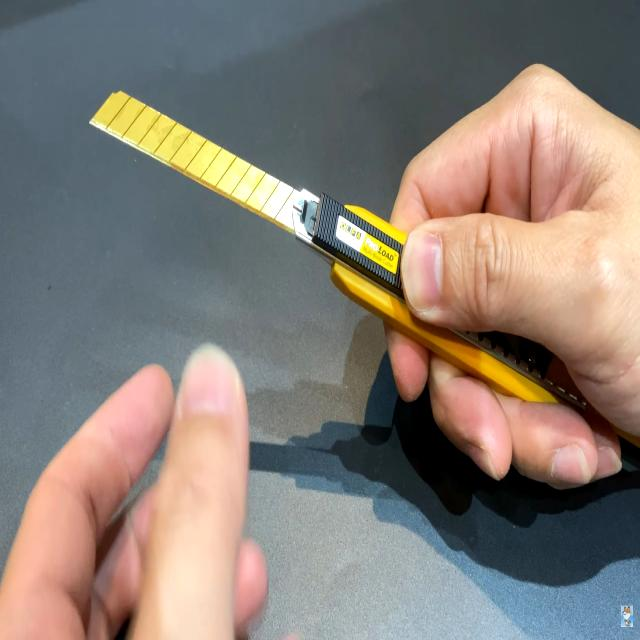cutter: (38, 46, 640, 577)
